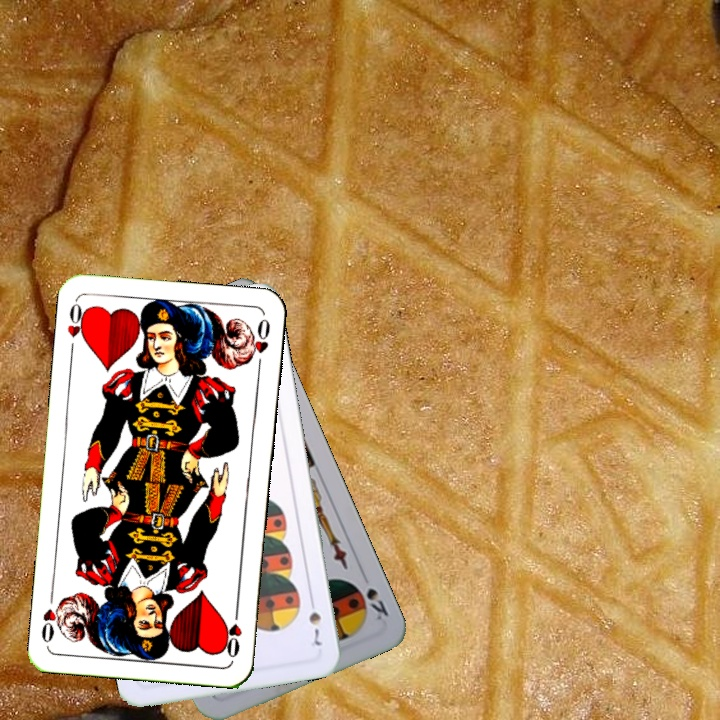HO: (63, 298, 91, 357), (221, 602, 245, 660)
S7: (304, 593, 324, 649)
SK: (351, 580, 391, 623)
